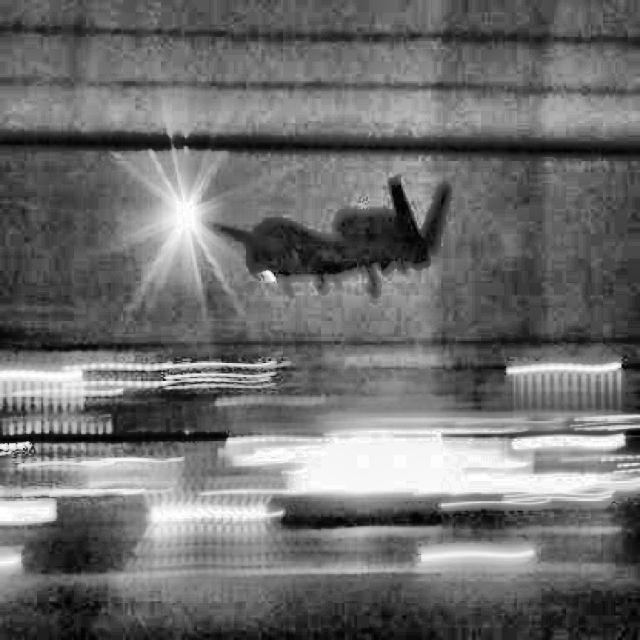RQ4: (194, 178, 452, 299)
